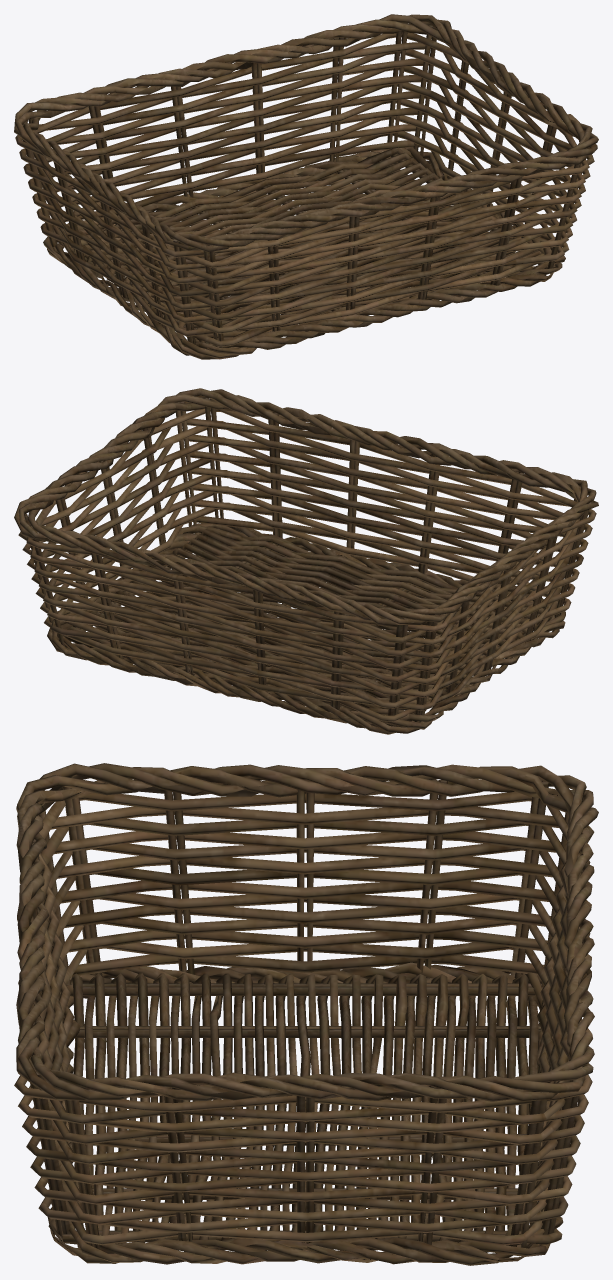
File: wicker_basket_01.glb
The picture shows the model from 3 angles, top to bottom: view 1: azimuth 30°, elevation 25°; view 2: azimuth 150°, elevation 25°; view 3: azimuth 270°, elevation 25°; orthographic projection. The views are drawn at different scales.
Parts seen in each view (by area): view 1: wicker_basket_01; view 2: wicker_basket_01; view 3: wicker_basket_01.
Part boxes in pixels (bbox=[...]): wicker_basket_01: bbox=[14, 14, 598, 359]; wicker_basket_01: bbox=[14, 388, 598, 734]; wicker_basket_01: bbox=[14, 763, 598, 1265].
Size of the model in its own units: 0.3832 by 0.1174 by 0.295.
1 material, 1 textured.
